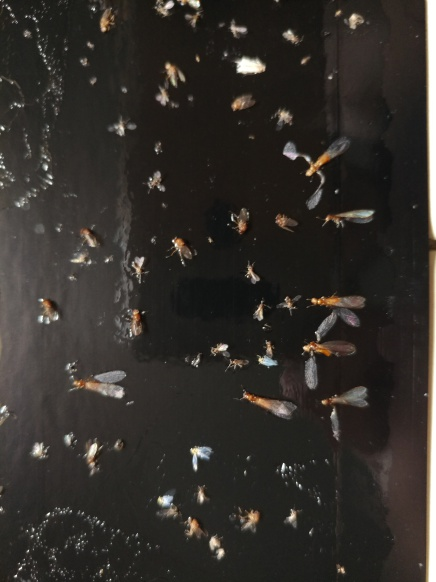flying termite: (281, 136, 353, 204), (319, 382, 375, 439), (236, 383, 301, 424), (72, 373, 133, 400), (318, 206, 378, 231), (306, 291, 373, 311)
